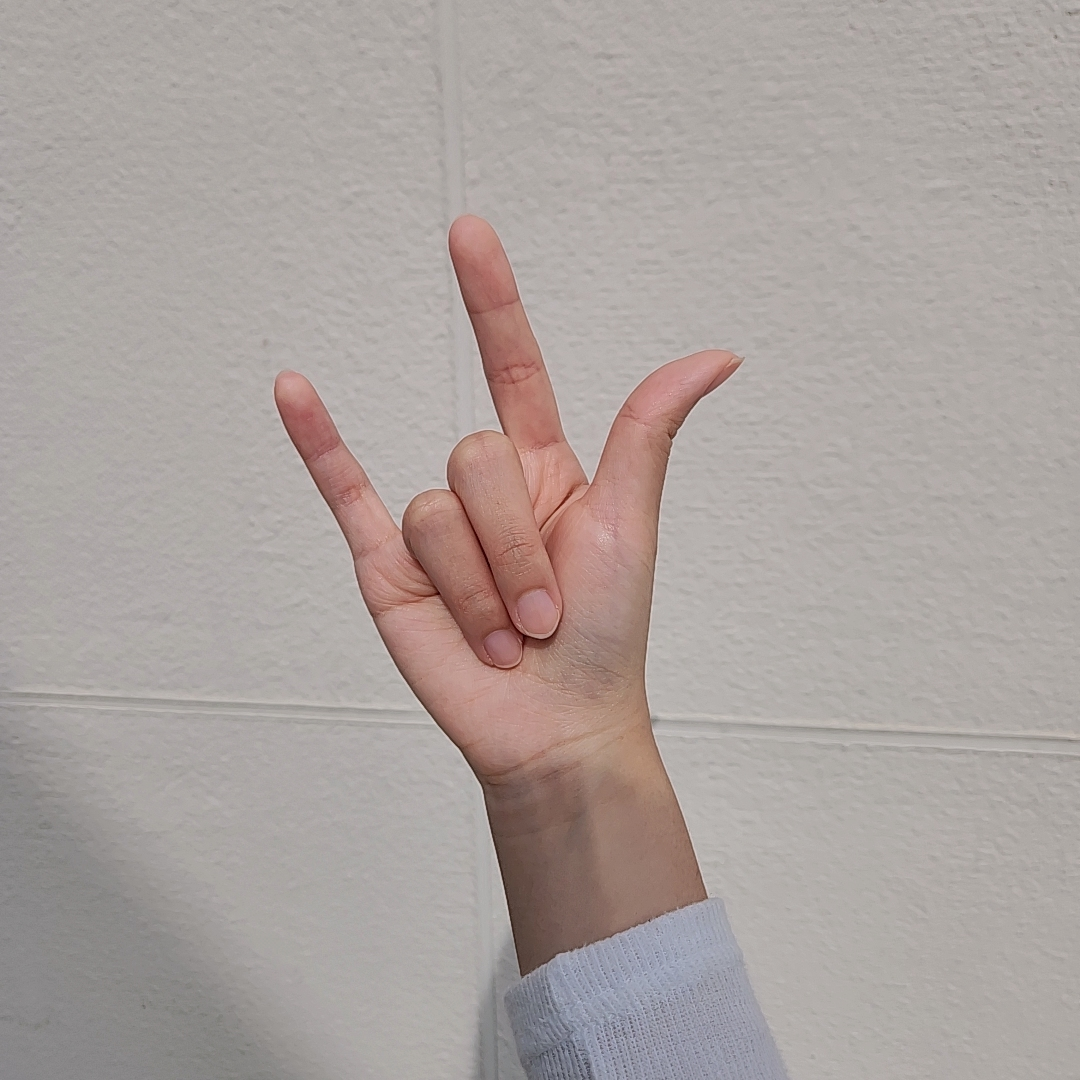iloveyou: (272, 211, 748, 753)
